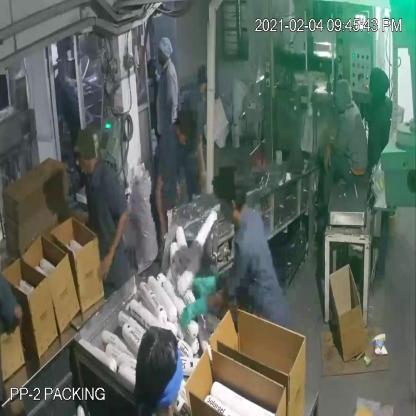glove: (177, 296, 212, 331), (189, 266, 229, 294)
no_glove: (93, 206, 136, 288), (150, 158, 174, 244), (194, 130, 212, 198), (321, 135, 339, 183)
